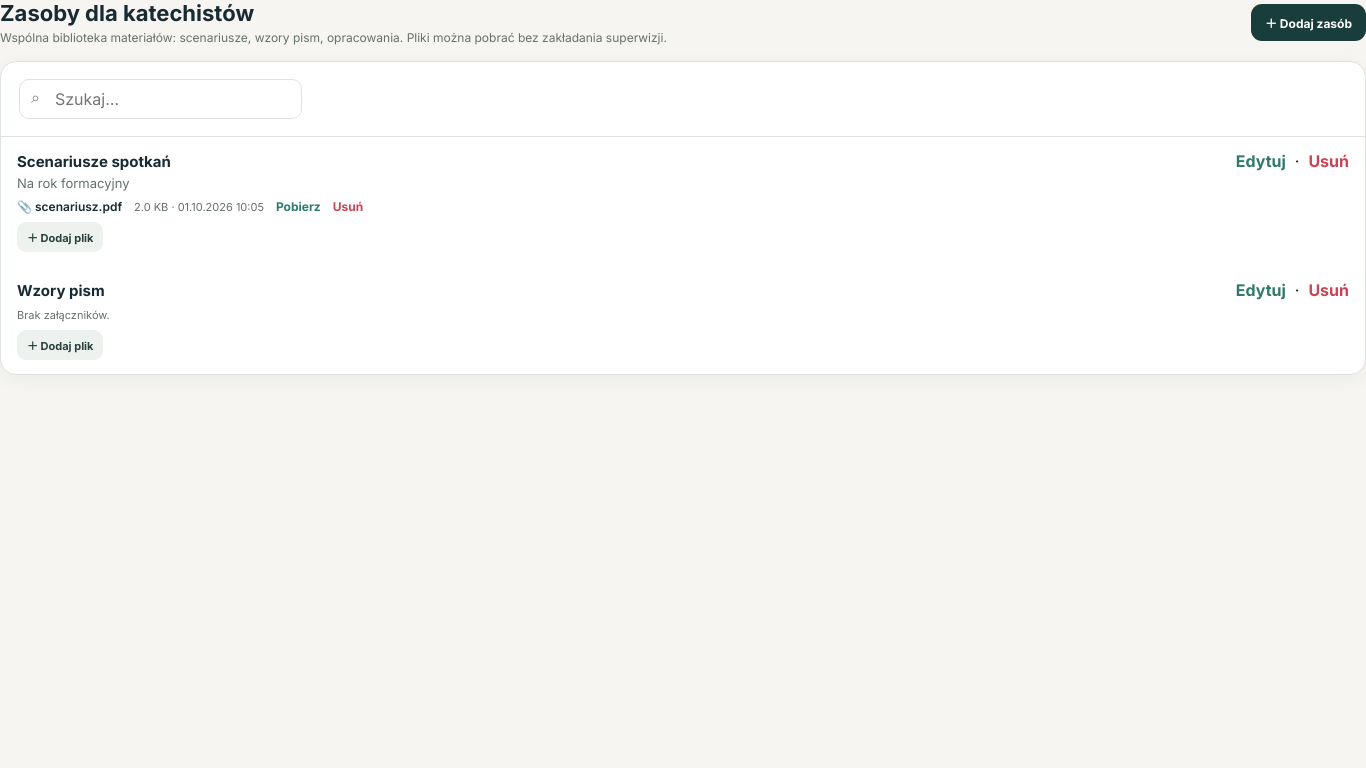
Test: ResourcesComponent › a manager › adds a resource with a title and a description
The width and height of the screenshot is (1366, 768).
Click the button "＋ Dodaj zasób". click: (1308, 22)
box: [1251,4,1365,41]
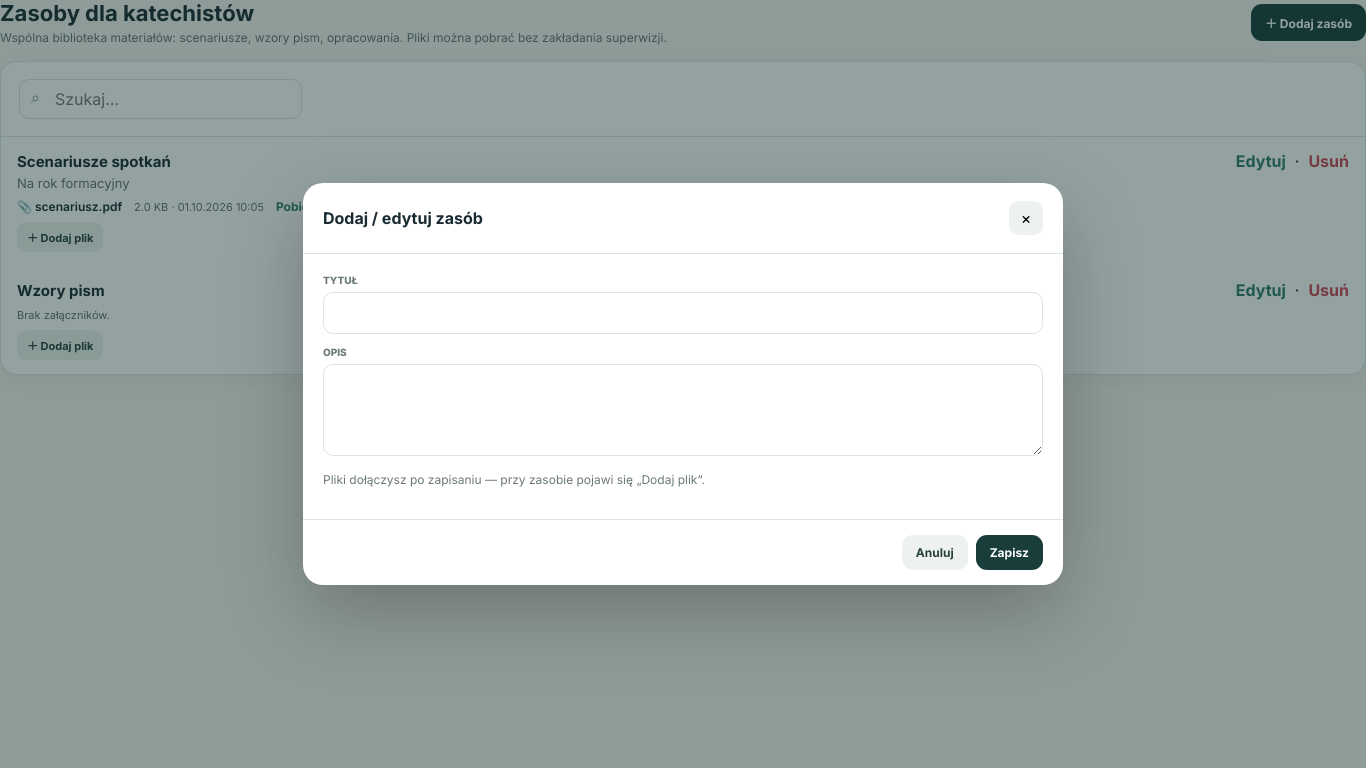
Type "Nowy zasób" into the field. click: (683, 313)
box: [323,292,1043,334]
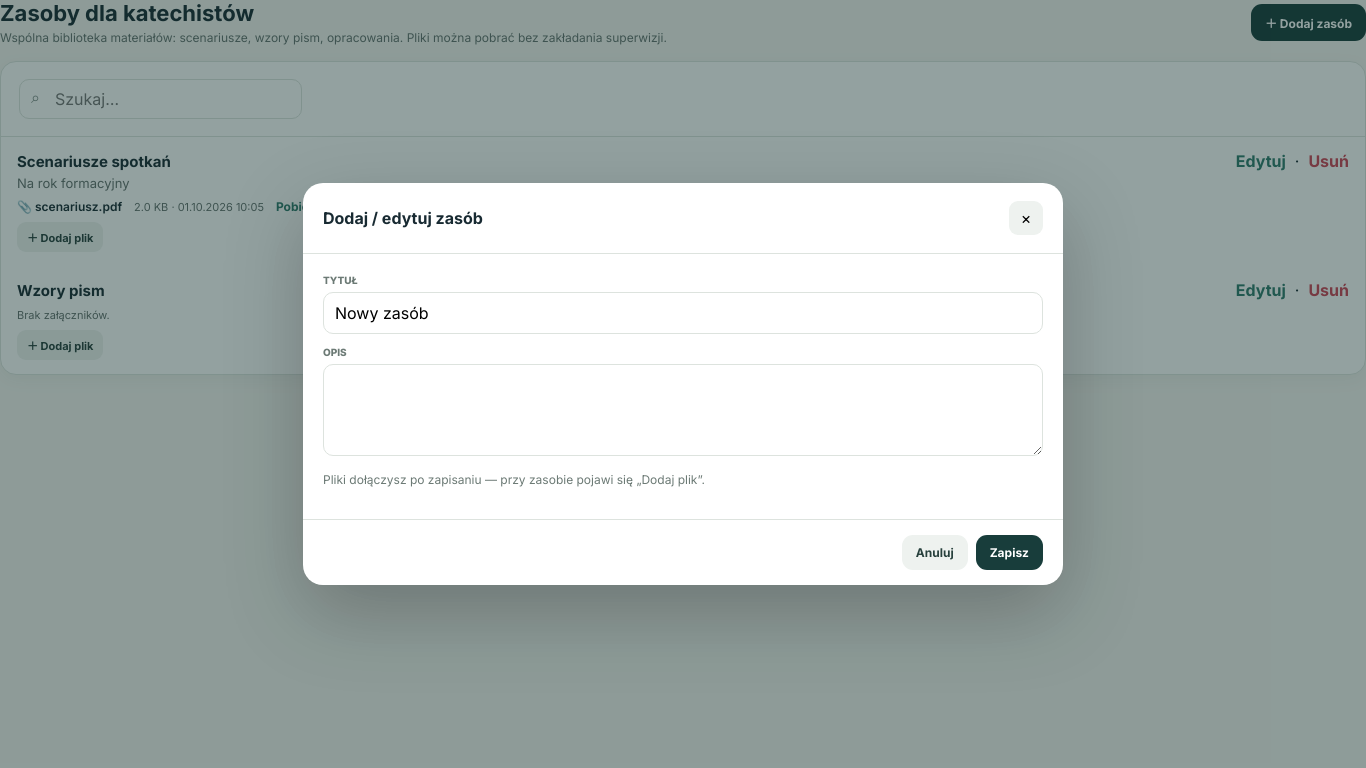
Type "Opis" into the text box. click: (683, 410)
box: [323,364,1043,456]
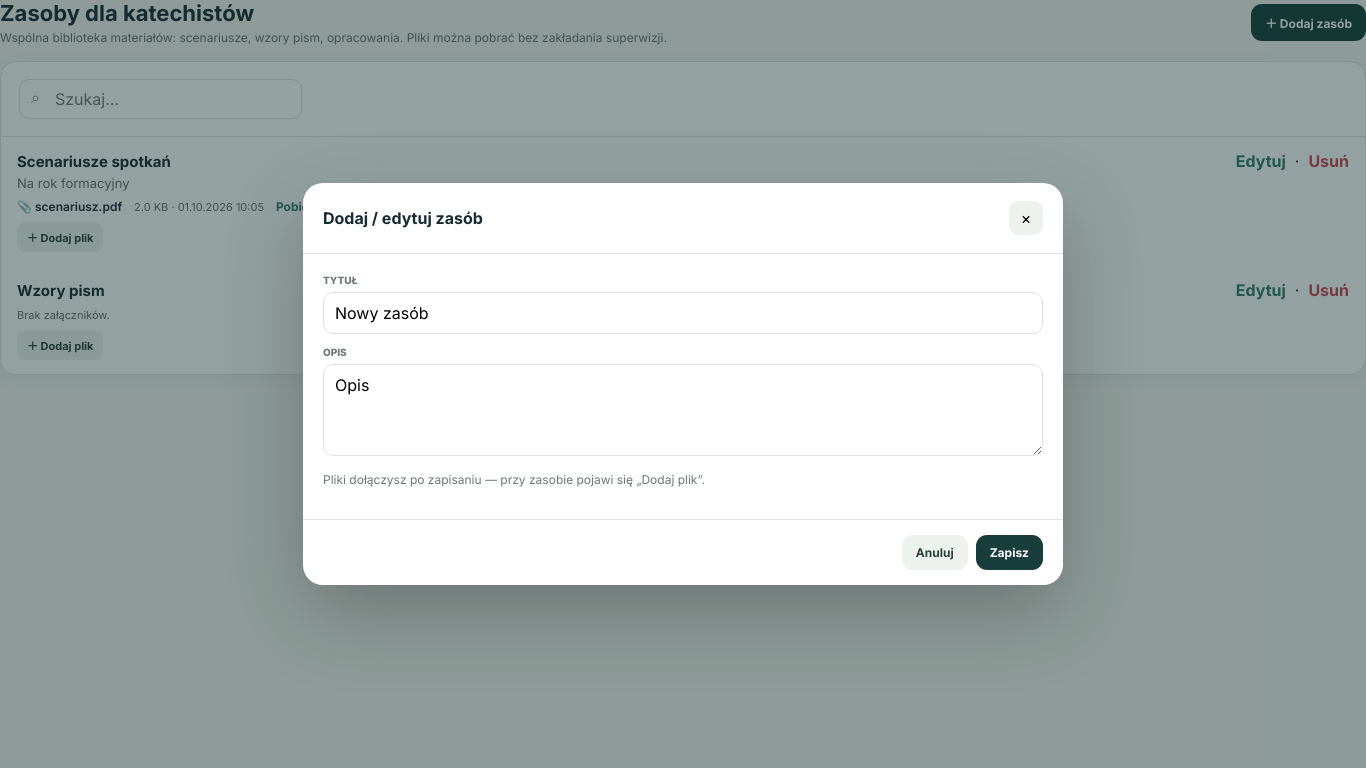
Click the button "Zapisz". click: (1009, 552)
box: [976,535,1043,570]
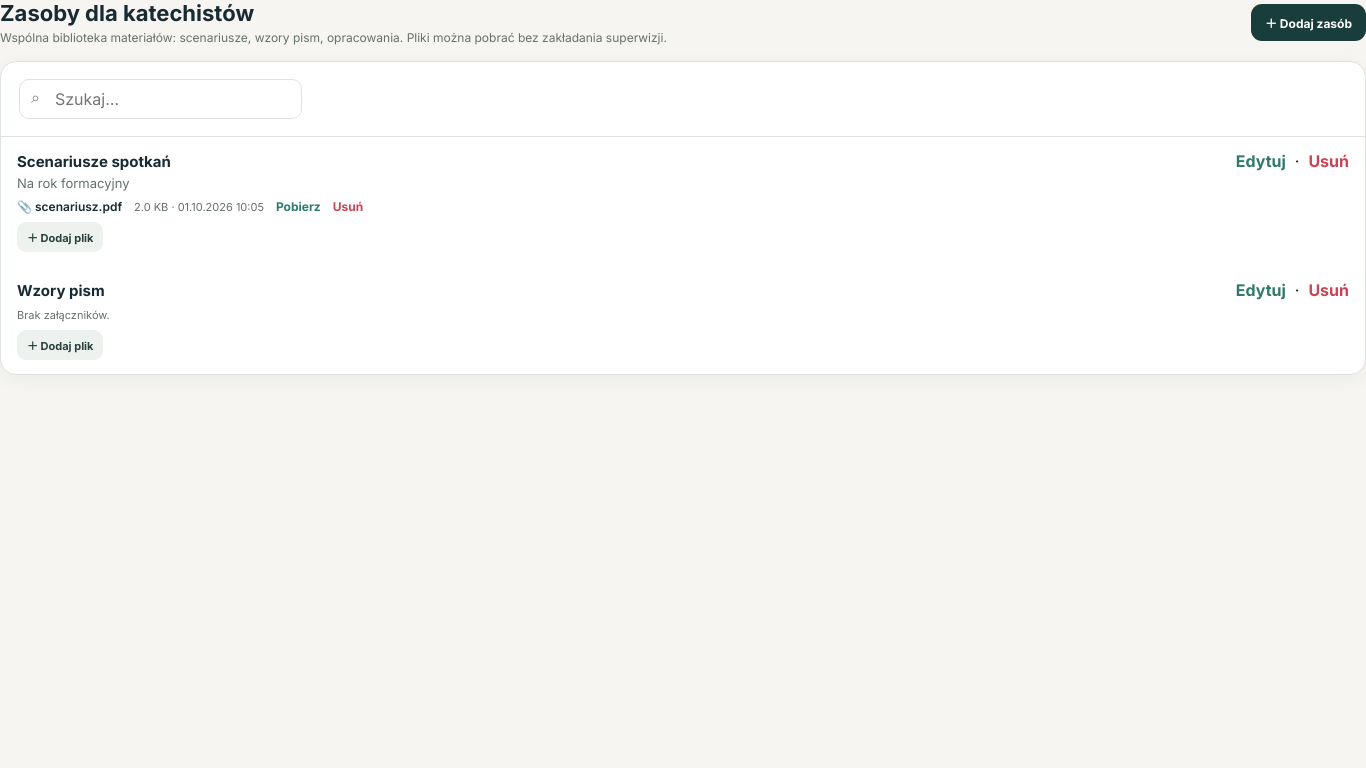
Now the element with class "modal" is gone
